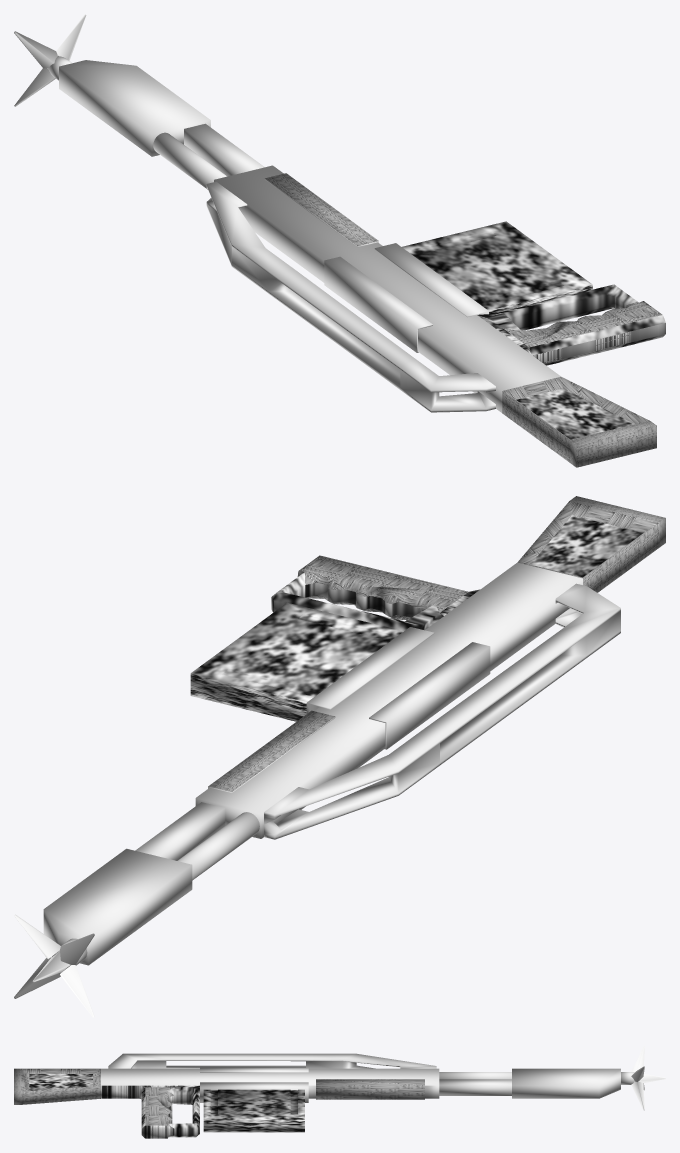
The model's file is gun_auto_rifle.fbx.
The picture shows the model from 3 angles, top to bottom: view 1: azimuth 30°, elevation 25°; view 2: azimuth 150°, elevation 25°; view 3: azimuth 270°, elevation 25°; orthographic projection. The views are drawn at different scales.
Visible parts, largest first — view 1: Gun.Assault.Rifle; view 2: Gun.Assault.Rifle; view 3: Gun.Assault.Rifle.
Part boxes in pixels (x1,y1,x2,y2): Gun.Assault.Rifle: (14,14,665,467); Gun.Assault.Rifle: (14,496,665,1017); Gun.Assault.Rifle: (14,1046,665,1138).
Size of the model in its own units: 23.4 by 6.76 by 89.8.
